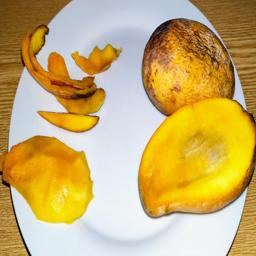Mango Rotten: (125, 22, 247, 112)
